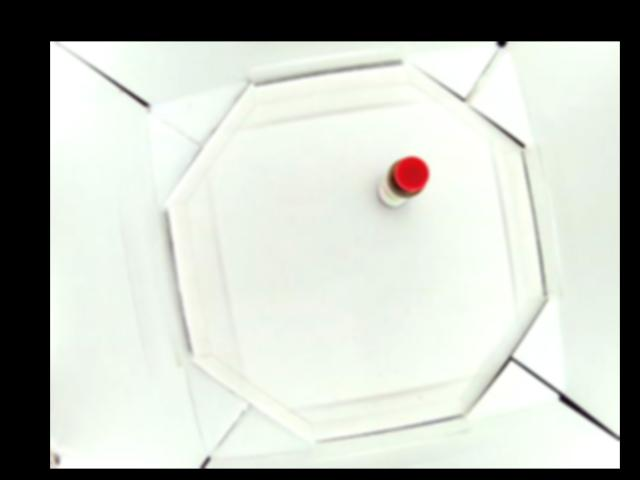Medicine: (375, 156, 430, 208)
